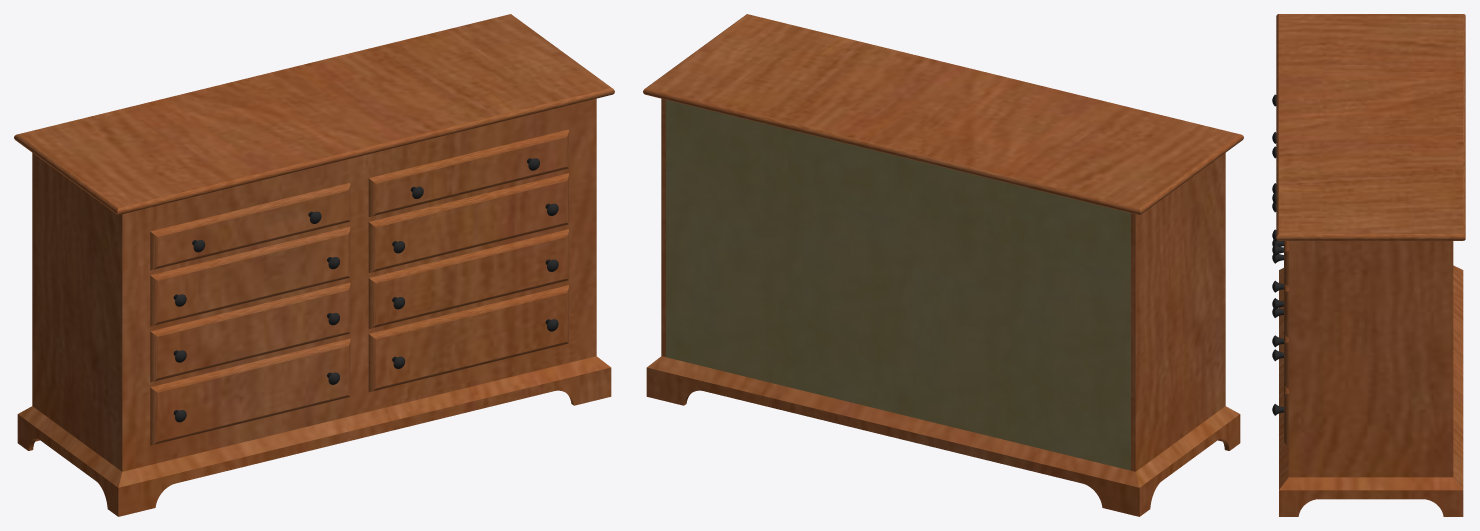
The model's file is dresser.min.dae.
3 views of the same model, side by side, from view 1: azimuth 30°, elevation 25°; view 2: azimuth 150°, elevation 25°; view 3: azimuth 270°, elevation 25° (orthographic). The views are drawn at different scales.
Visible parts, largest first — view 1: Model; view 2: Model; view 3: Model.
Part boxes in pixels (x1,y1,x2,y2): Model: (14, 14, 614, 516); Model: (643, 14, 1243, 516); Model: (1276, 14, 1465, 516).
Bounding box in the file's own units: 53.5 × 19.68 × 31.75.
Materials: 4 (2 with a texture image).
